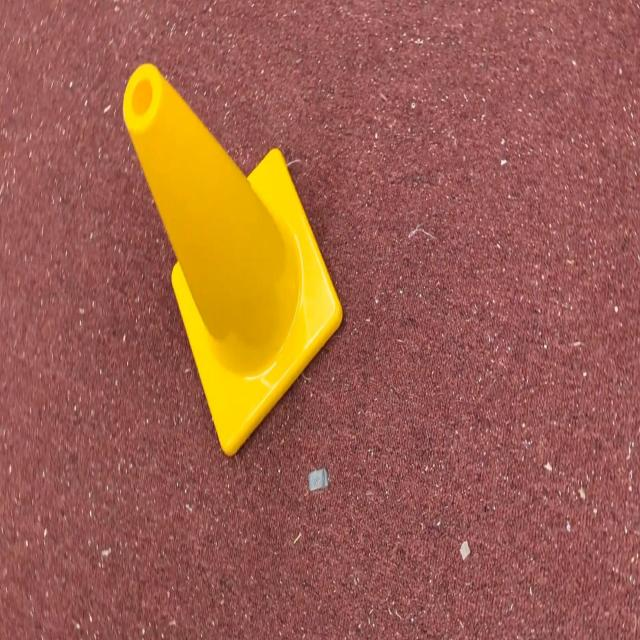frc_cone: (122, 63, 343, 460)
